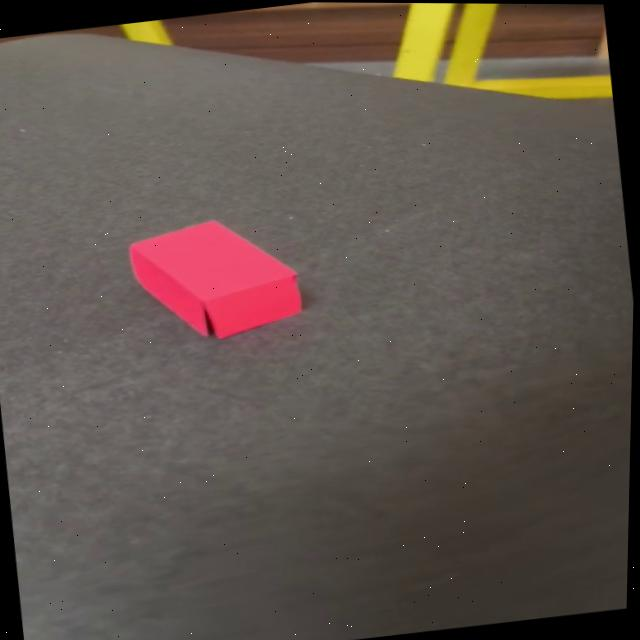red block: (123, 206, 309, 348)
